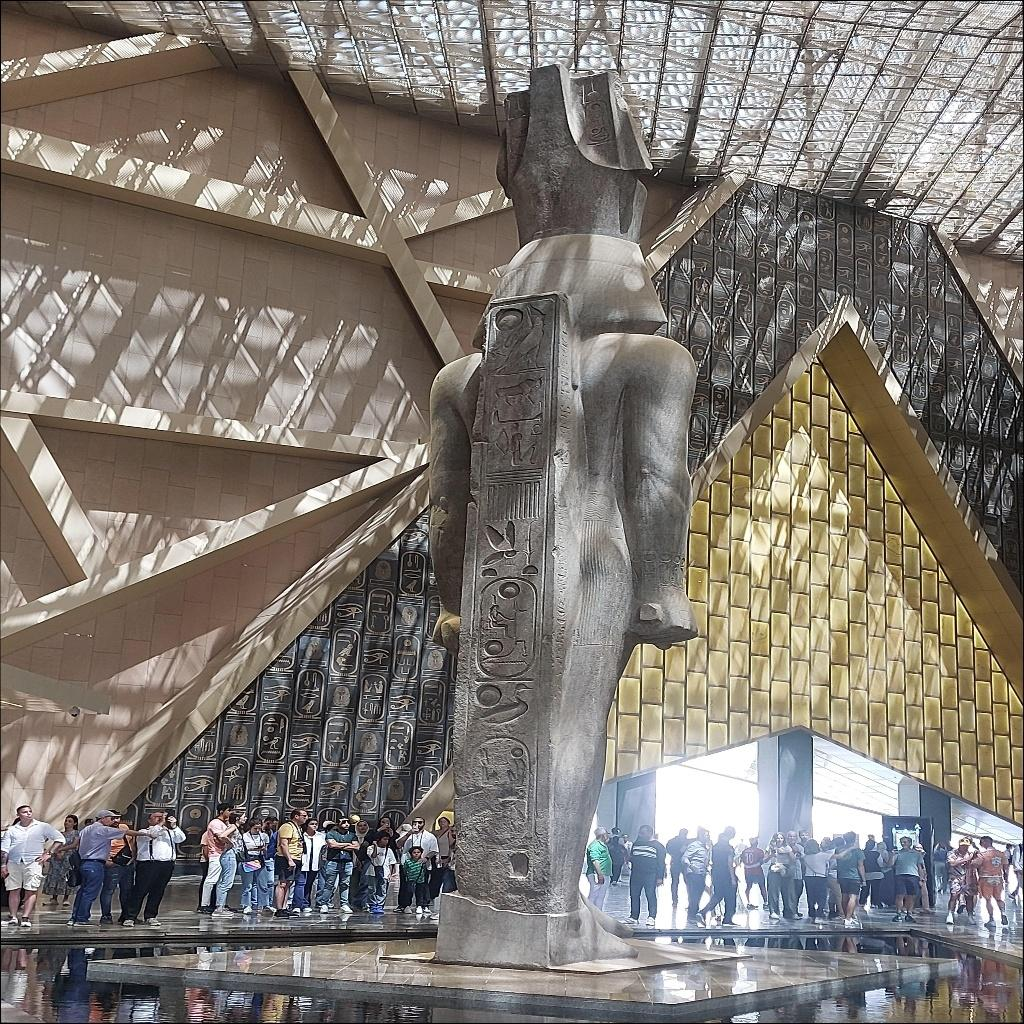Statue of King Ramses II Grand Egyptian Museum: (404, 60, 746, 974)
